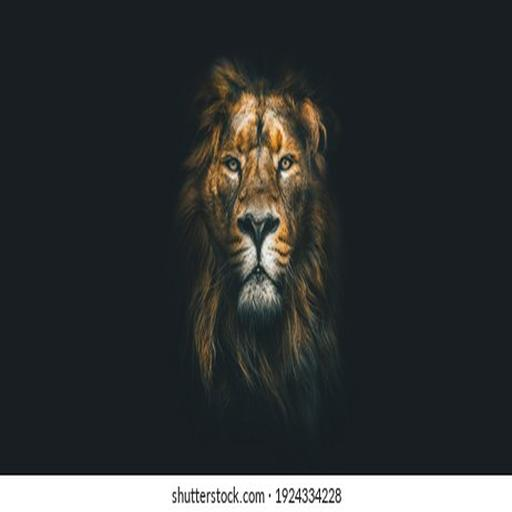Lion: (163, 37, 355, 475)
